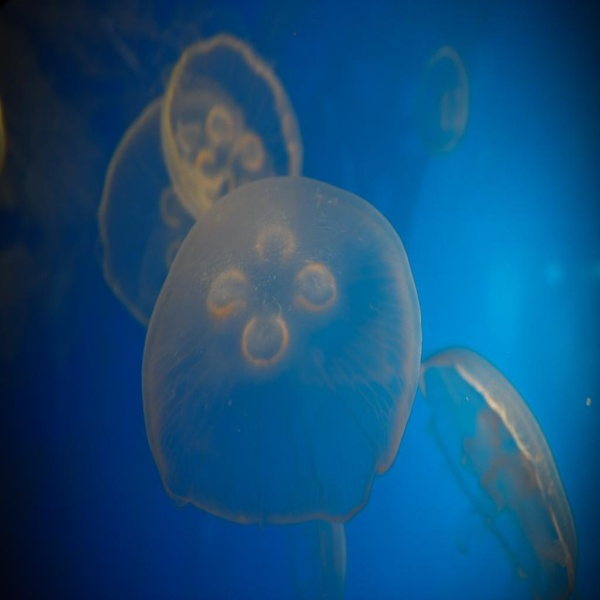Jellyfish: (147, 171, 432, 567), (422, 337, 579, 599), (162, 31, 306, 220), (91, 93, 200, 336)
